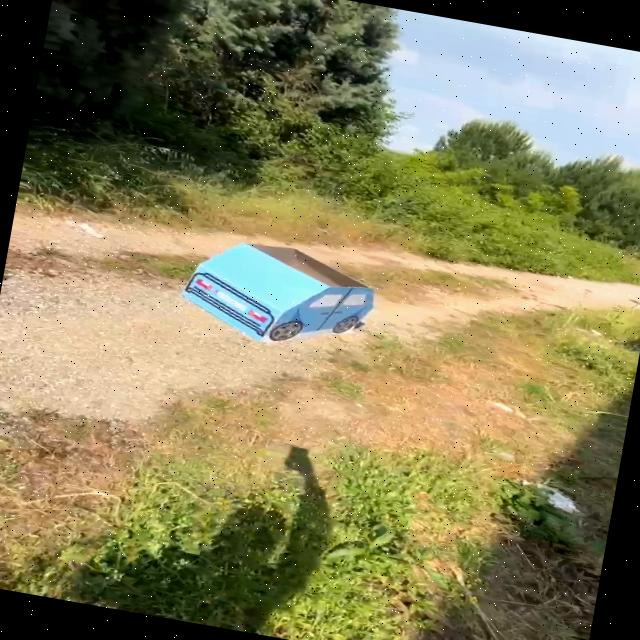blue_car: (159, 213, 400, 372)
